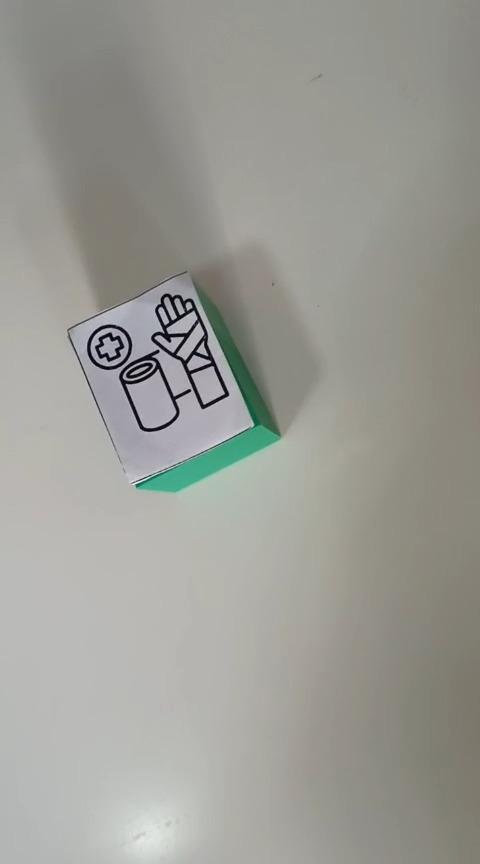Bandages: (66, 269, 280, 492)
